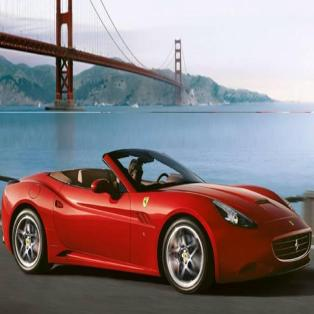Auto: (1, 148, 312, 295)
